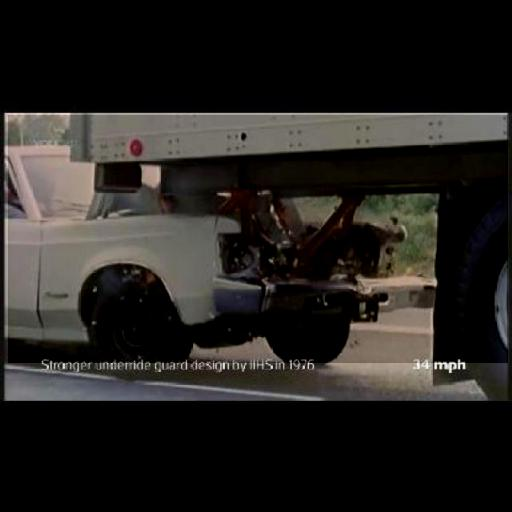小汽车撞小汽车: (8, 115, 508, 363)
